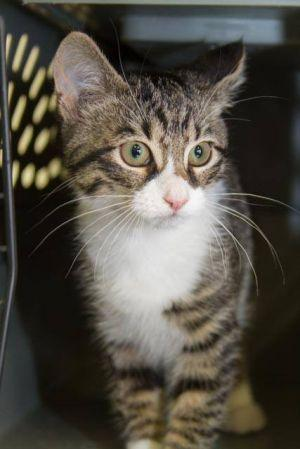bengal: (44, 18, 255, 242)
